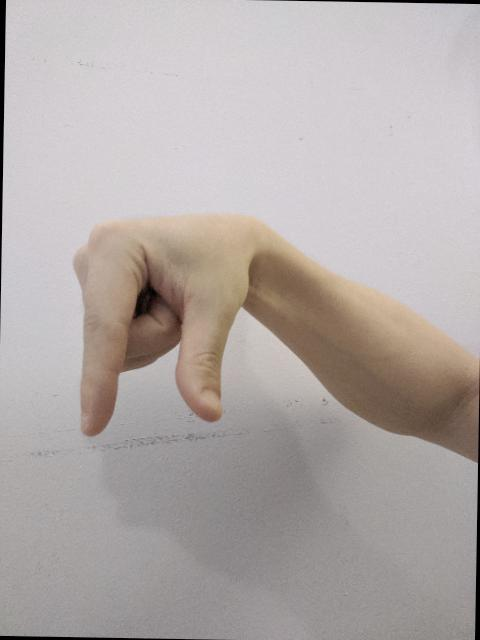Q: (62, 207, 255, 442)
